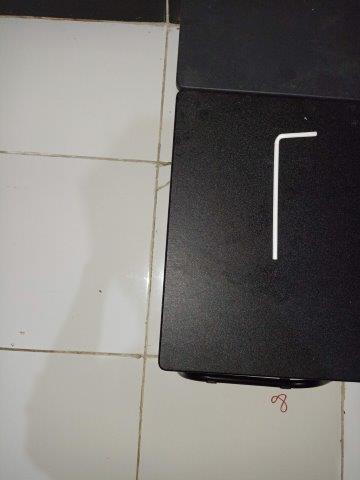karet: (271, 393, 289, 412)
sedotan: (272, 131, 317, 260)
